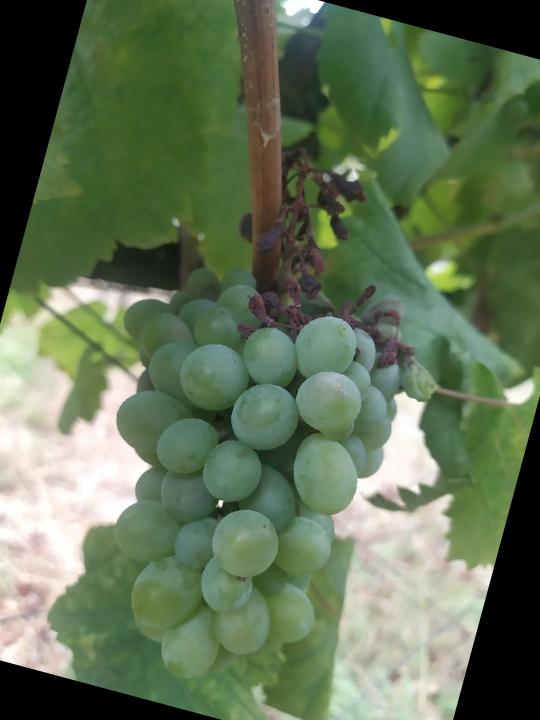grape: (32, 110, 492, 720)
